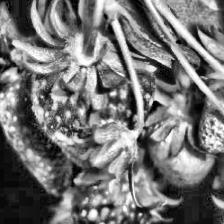Powdery Mildew Fruit: (28, 28, 156, 170), (0, 35, 84, 197), (68, 166, 153, 224), (197, 46, 224, 156)
